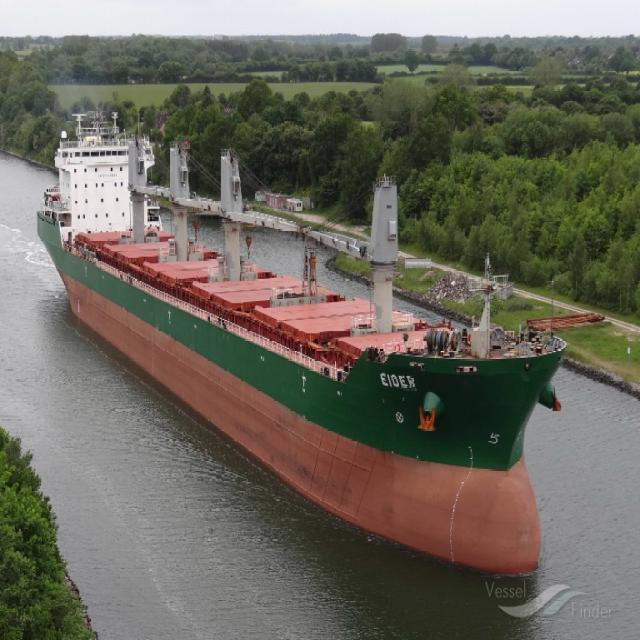OCR: (377, 366, 421, 396)
